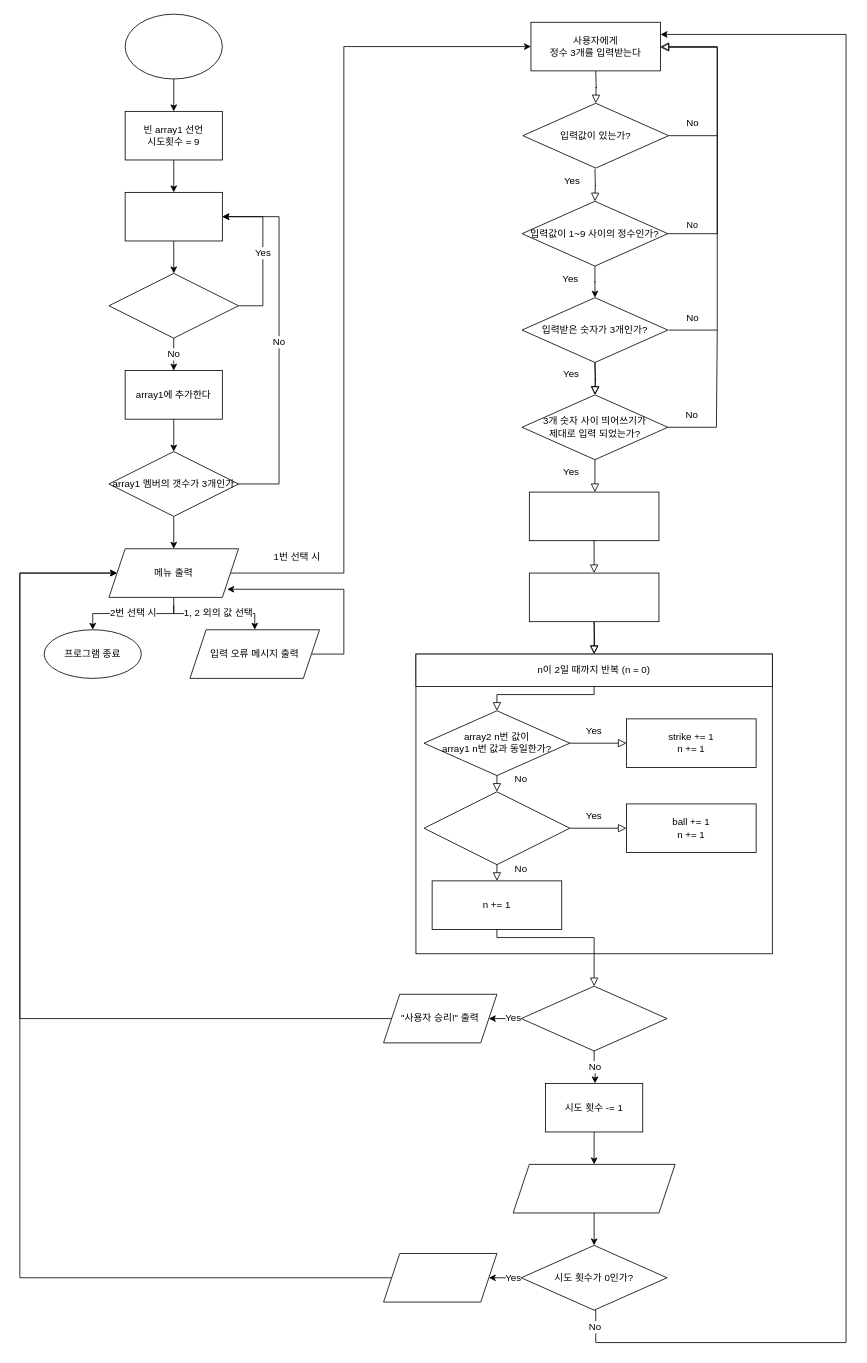
This 867x1363 diagram has some shape labels left out. The shapes that lost their labels are listed below. From the top down, each one's centre as x and y in pixels, then its label:
[173,46]: 시작
[173,216]: 1~9까지 랜덤한 한개의 숫자를 생성한다
[173,305]: array1에 이미 존재하는 수가 있는가?
[594,516]: array2에 담는다
[594,597]: strike, ball 변수를 0으로 각각 선언한다
[496,828]: array2 n번 멤버는 array1에 포함된 값인가?
[593,1018]: strike값이 3인가?
[593,1188]: "\(strike) 스트라이크, \(ball) 볼 남은 기회: \(시도 횟수)" 출력
[440,1277]: "컴퓨터 승리...!" 출력
